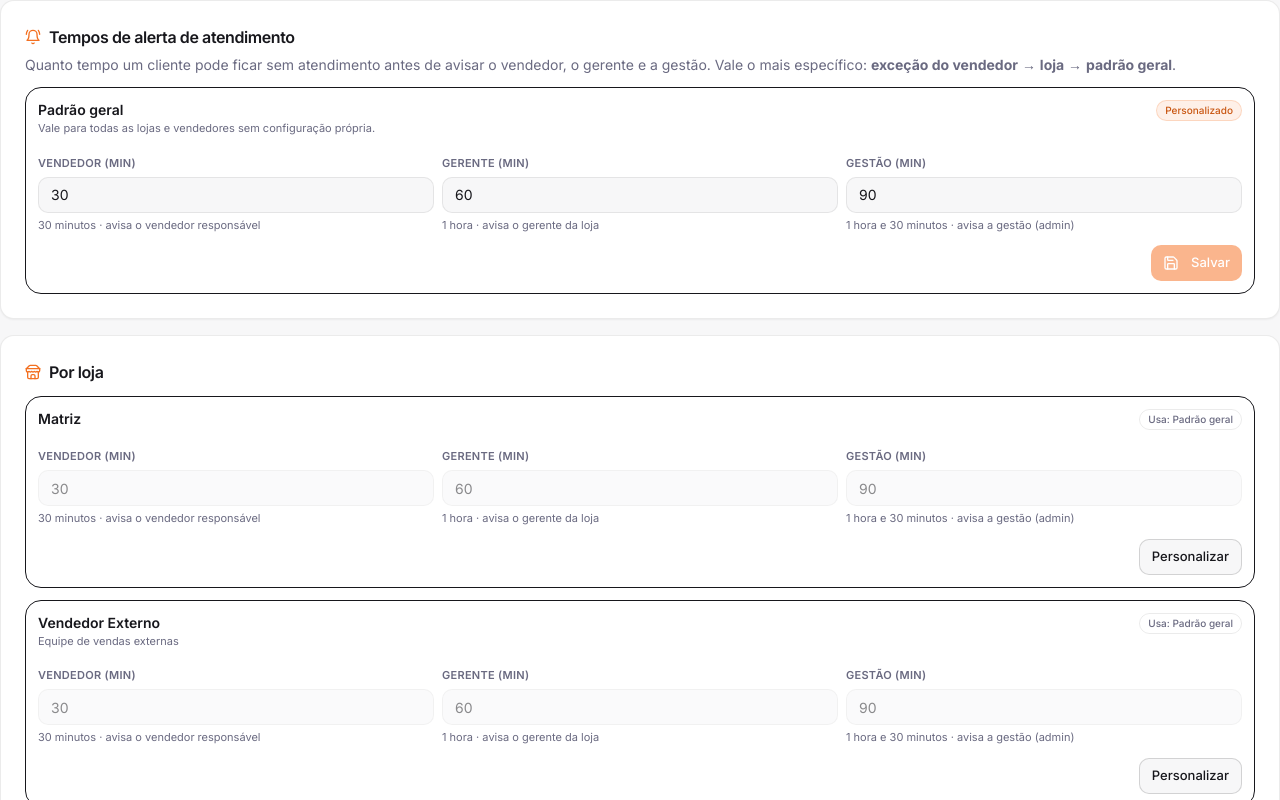
AlertTimesTab › saves longer times for the external team store
Later steps or results of the test are not shown.
Click the 2nd button "Personalizar".
click(1190, 776)  # box [1139, 758, 1242, 794]
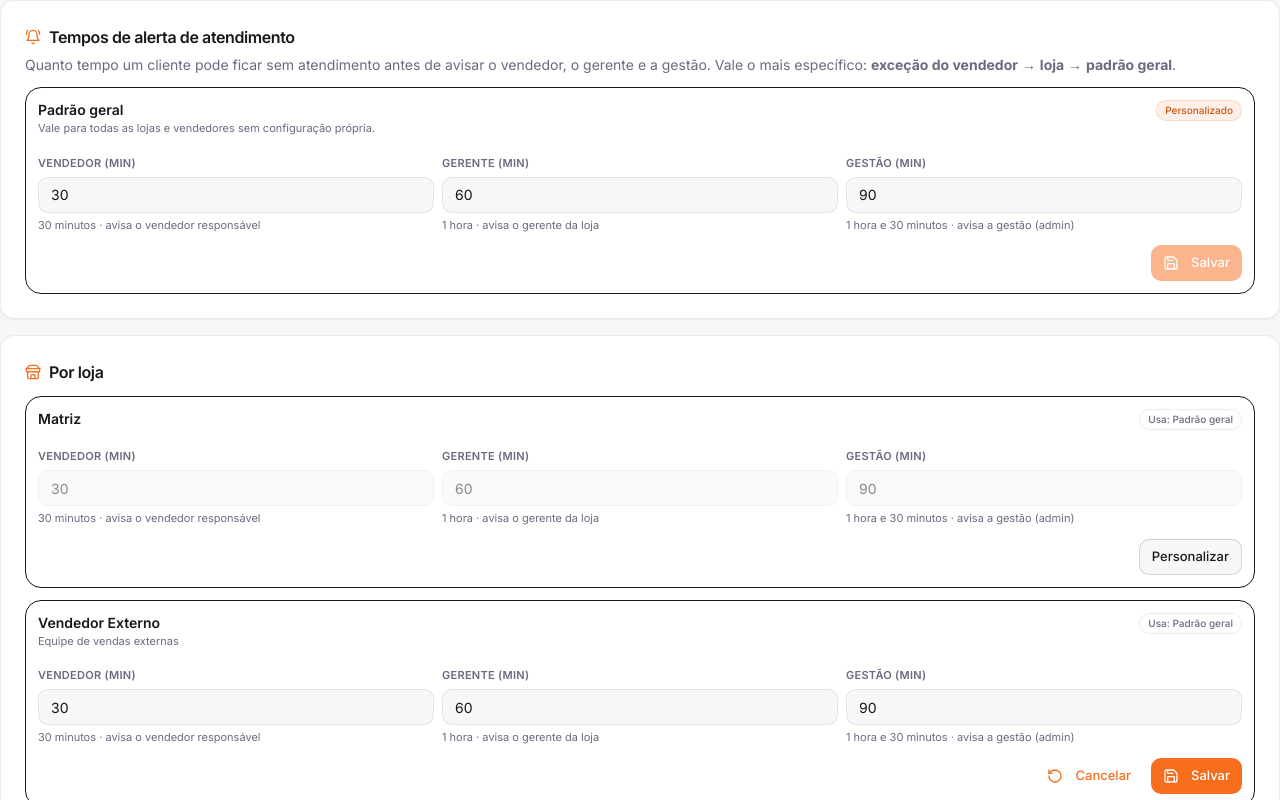
Replace the text in the number field named "Vendedor Externo — Vendedor (minutos)" with "120" at (236, 707), box [38, 689, 434, 725]
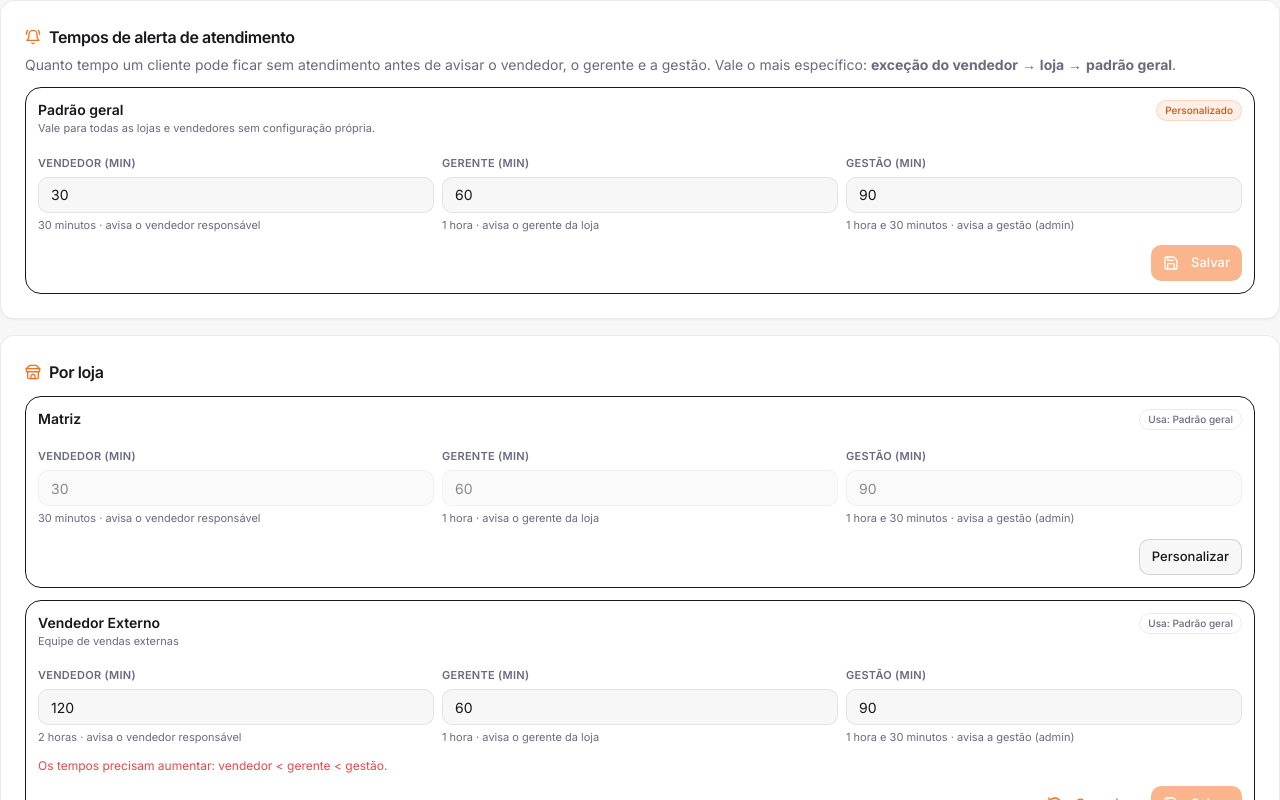
Replace the text in the number field named "Vendedor Externo — Gerente (minutos)" with "240" at (640, 707), box [442, 689, 838, 725]
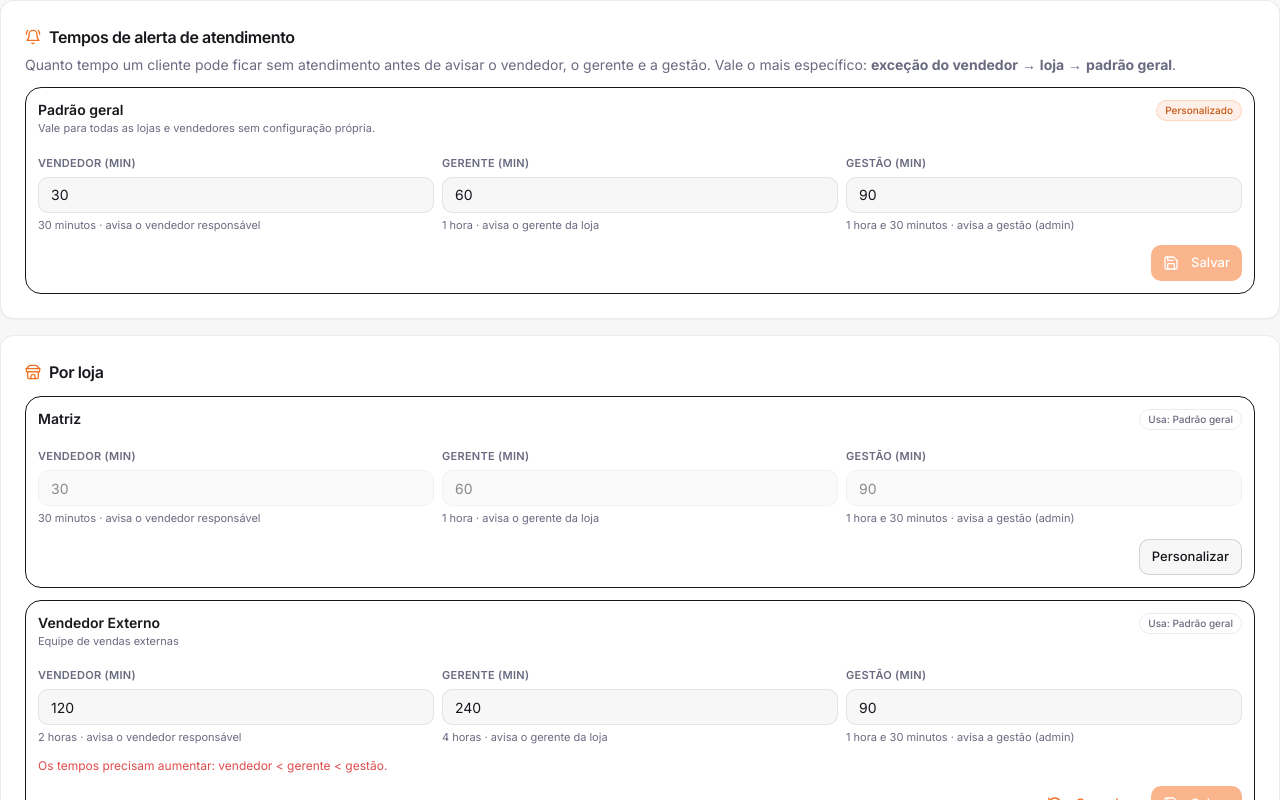
Replace the text in the number field named "Vendedor Externo — Gestão (minutos)" with "480" at (1044, 707), box [846, 689, 1242, 725]
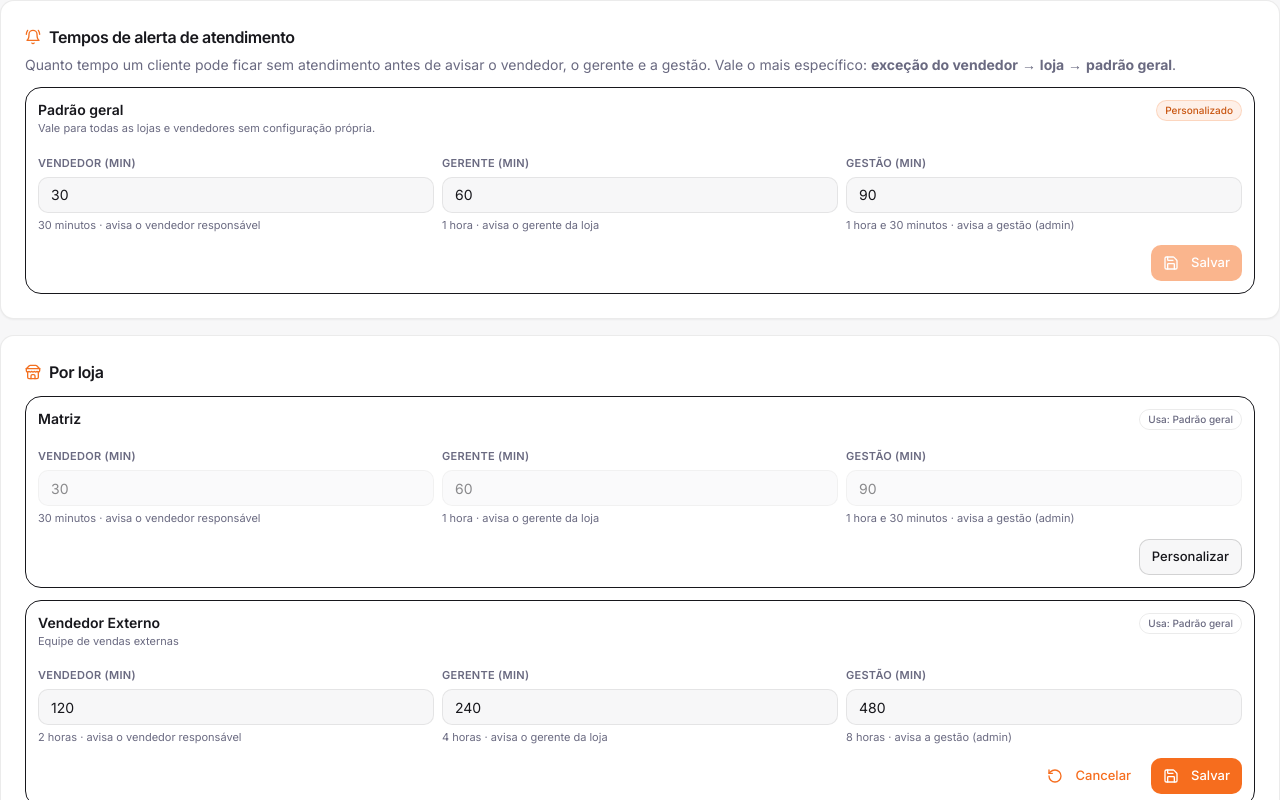
Now the text "2 horas · avisa o vendedor responsável" is shown, box [38, 730, 242, 744]
